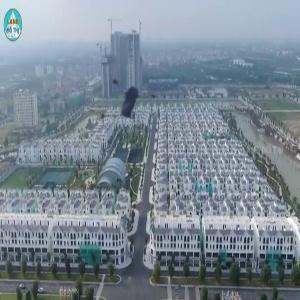drone: (81, 56, 167, 142)
